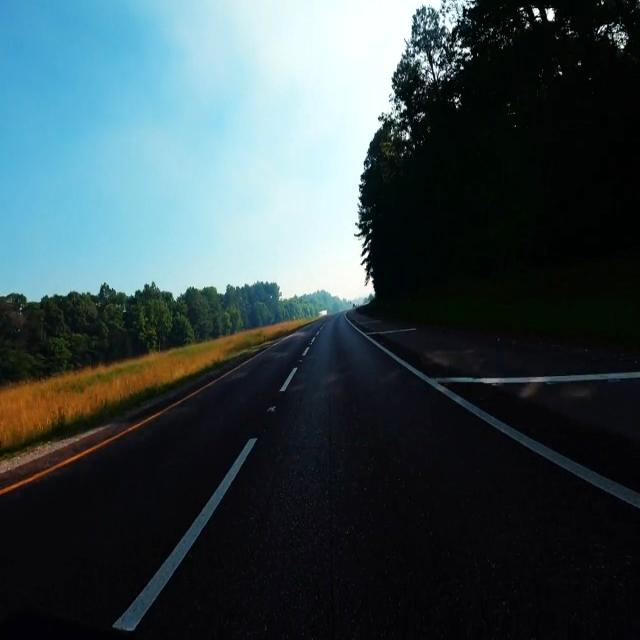lane: (345, 316, 640, 509), (0, 353, 259, 496), (114, 440, 256, 631), (280, 367, 298, 392)
road: (0, 315, 640, 636), (452, 380, 640, 492), (373, 328, 640, 374)
